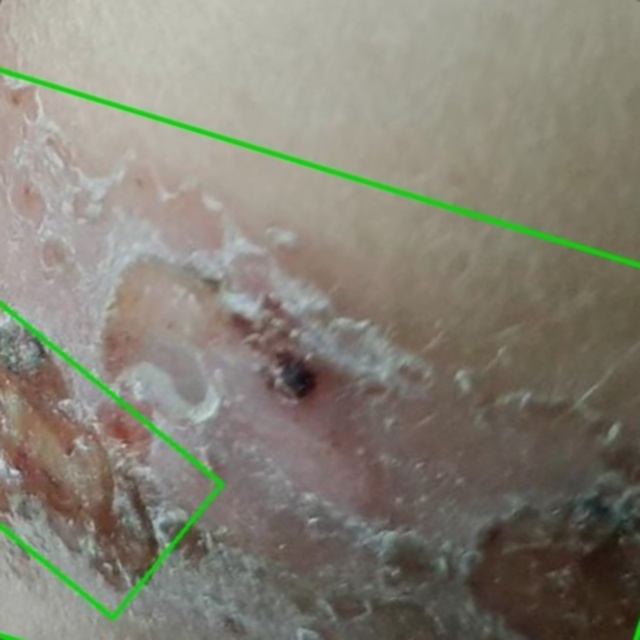Contact Dermatitis: (0, 71, 639, 639), (0, 273, 232, 619)
